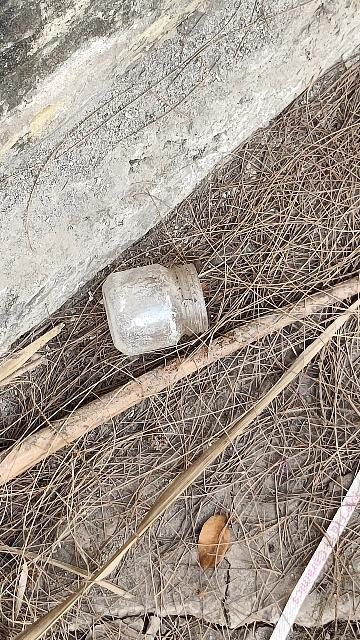hardplastic: (98, 259, 219, 356)
